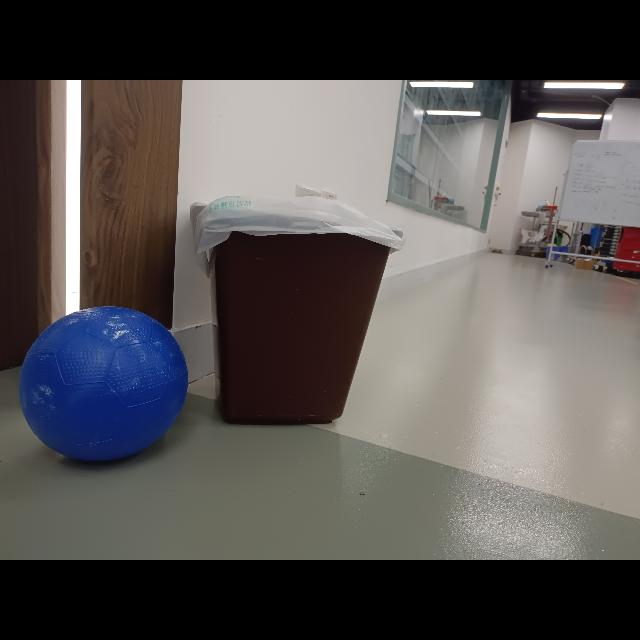B: (19, 298, 191, 468)
